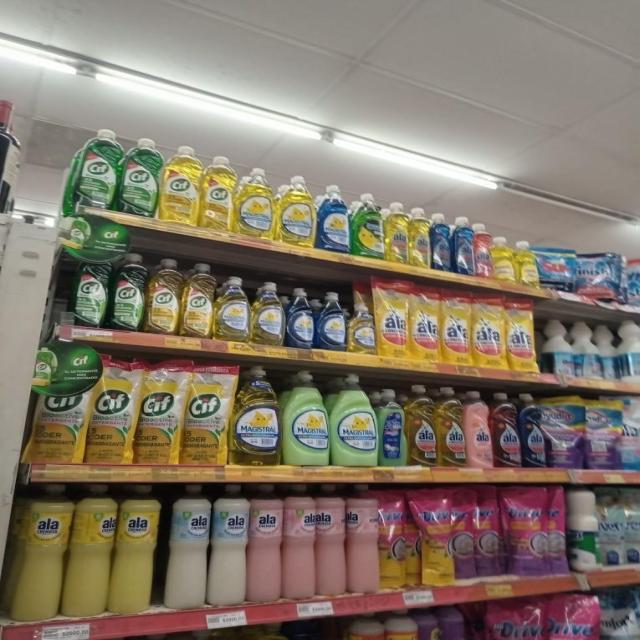ala_conc_amarillo: (407, 384, 436, 467), (437, 386, 465, 468)
ala_conc_azul: (520, 393, 545, 468), (453, 216, 474, 276), (432, 212, 452, 272)
ala_conc_rojo: (492, 391, 520, 468), (475, 222, 492, 279)
ala_crem_amarillo: (11, 483, 68, 622), (114, 484, 160, 614)
ala_crem_blanco: (164, 483, 208, 610), (210, 483, 248, 607)
ala_crem_rosado: (248, 483, 282, 604), (283, 483, 315, 601), (346, 483, 378, 595), (316, 483, 346, 599)
ala_sachet_amarillo: (378, 280, 408, 358), (473, 296, 505, 368), (410, 288, 440, 362), (507, 299, 537, 372), (442, 292, 472, 365)
ala_ultra_rosa: (466, 390, 492, 468)
cif_conc_bot_amarilla: (161, 144, 200, 224), (146, 257, 180, 335), (201, 155, 235, 231), (182, 262, 214, 338)
cif_conc_botella_verde: (73, 128, 119, 214), (121, 136, 159, 217), (110, 253, 145, 332), (73, 253, 109, 329), (0, 91, 16, 214)
cif_conc_sachet_amarillo: (183, 362, 230, 466), (89, 358, 134, 466), (137, 359, 182, 466)
drive: (506, 485, 553, 577), (420, 486, 452, 586), (476, 484, 503, 578), (549, 593, 600, 640), (453, 486, 475, 584)
heroe: (345, 612, 386, 640), (242, 622, 294, 640)
magistral_con_amarillo: (232, 366, 281, 466), (276, 174, 316, 246), (236, 167, 274, 238), (214, 275, 249, 342), (251, 281, 284, 346), (348, 282, 376, 354)
magistral_con_azul: (318, 184, 350, 252), (286, 287, 316, 349), (317, 290, 346, 351)
magistral_con_crema: (283, 369, 329, 467), (331, 373, 377, 467)
zorro: (378, 387, 407, 467)
